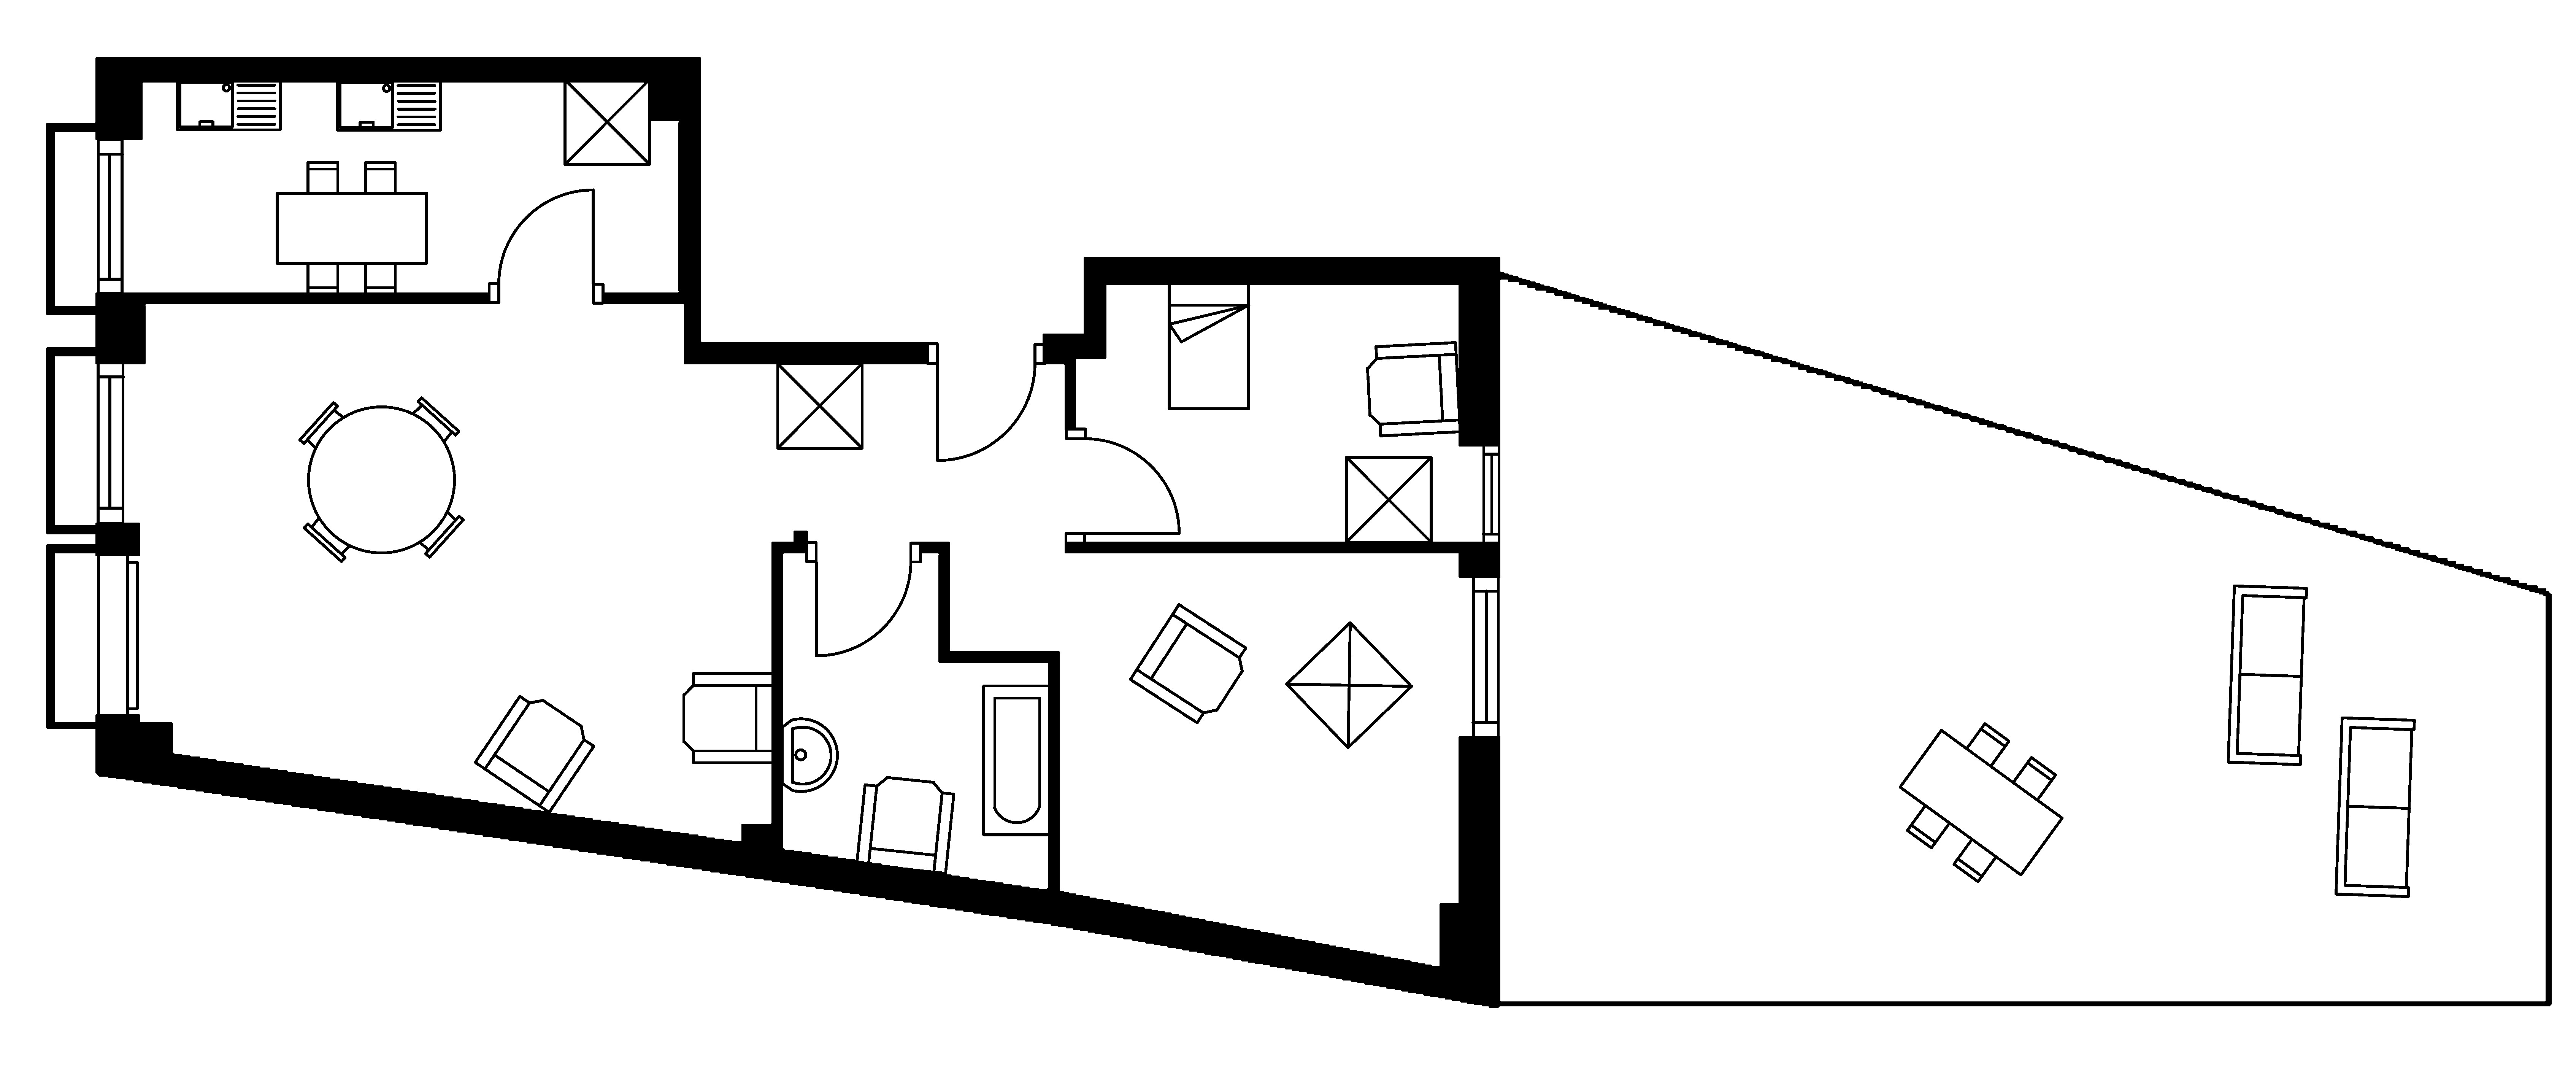armchair: (473, 694, 595, 814), (1129, 602, 1247, 725), (854, 775, 956, 875), (1365, 340, 1462, 437), (682, 671, 774, 765)
bed: (1166, 280, 1250, 411)
coffee_table: (1285, 620, 1413, 750), (562, 77, 651, 166), (775, 362, 864, 451), (1344, 456, 1433, 544)
dining_table: (1897, 722, 2063, 883), (274, 160, 429, 296)
large_sofa: (2226, 584, 2308, 766), (2334, 715, 2417, 898)
round_table: (297, 396, 465, 564)
sink: (174, 77, 281, 132), (335, 77, 442, 132)
small_sink: (780, 717, 838, 793)
tub: (981, 684, 1051, 837)
